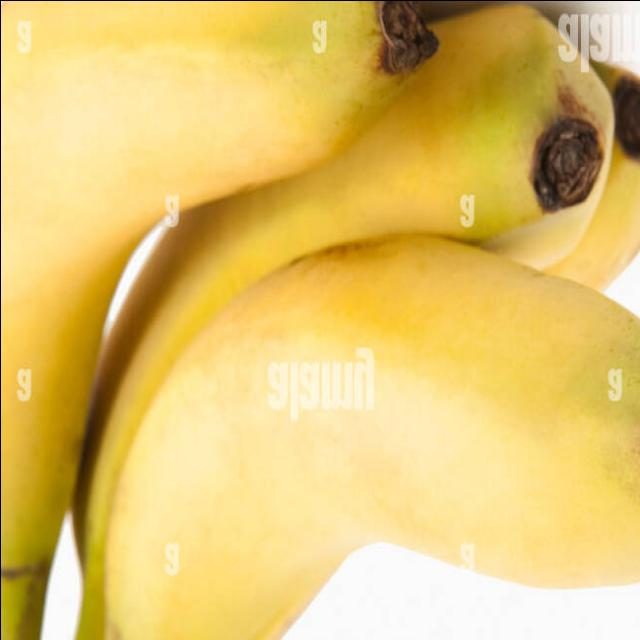banana: (68, 0, 614, 640), (104, 233, 640, 640), (535, 49, 640, 295)
